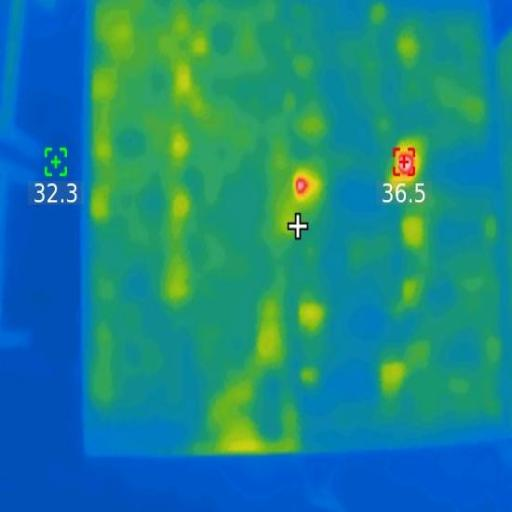hotspot: (390, 142, 419, 178), (293, 176, 312, 199)
